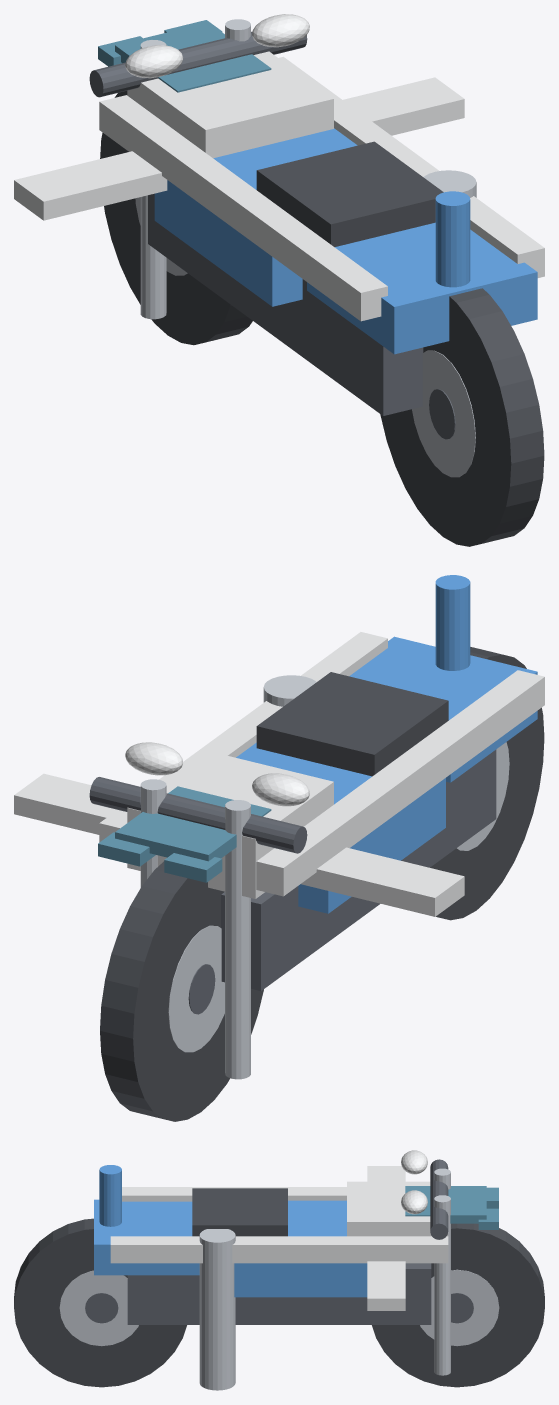
File: apex_rider.glb
The picture shows the model from 3 angles, top to bottom: view 1: azimuth 30°, elevation 25°; view 2: azimuth 150°, elevation 25°; view 3: azimuth 270°, elevation 25°; orthographic projection. The views are drawn at different scales.
Visible parts, largest first — view 1: part_9, part_23, part_3, part_0, part_4, part_2, part_1, part_6, part_19, part_24, part_10, part_20 (+8 smaller); view 2: part_6, part_23, part_4, part_0, part_9, part_2, part_1, part_3, part_19, part_12, part_14, part_5 (+12 smaller); view 3: part_6, part_9, part_0, part_24, part_1, part_16, part_3, part_4, part_2, part_10, part_7, part_13 (+11 smaller).
Part boxes in pixels (x1,y1,x2,y2): part_9: (380, 288, 544, 546); part_23: (99, 95, 387, 321); part_3: (307, 222, 537, 354); part_0: (148, 193, 423, 415); part_4: (256, 141, 443, 247); part_2: (127, 51, 333, 158); part_1: (154, 128, 357, 306); part_6: (100, 91, 252, 345); part_19: (14, 151, 167, 220); part_24: (278, 56, 544, 277); part_10: (412, 350, 475, 477); part_20: (343, 77, 464, 135); part_6: (100, 861, 263, 1121); part_23: (256, 670, 544, 896); part_4: (256, 672, 448, 776); part_0: (221, 749, 496, 990); part_9: (430, 647, 544, 920); part_2: (127, 750, 333, 898); part_1: (236, 742, 445, 913); part_3: (349, 636, 537, 782); part_19: (301, 847, 464, 916); part_12: (225, 800, 250, 1079); part_14: (89, 777, 307, 853); part_5: (115, 786, 271, 861); part_6: (372, 1223, 544, 1387); part_9: (14, 1218, 186, 1387); part_0: (127, 1263, 431, 1324); part_24: (110, 1236, 448, 1263); part_1: (234, 1200, 367, 1297); part_16: (199, 1229, 235, 1390); part_3: (94, 1199, 199, 1275); part_4: (192, 1188, 287, 1236); part_2: (347, 1181, 448, 1236); part_10: (59, 1270, 138, 1346); part_7: (420, 1269, 499, 1346); part_13: (434, 1195, 450, 1375).
Size of the model in its own units: 2.79 by 2.09 by 4.72.
